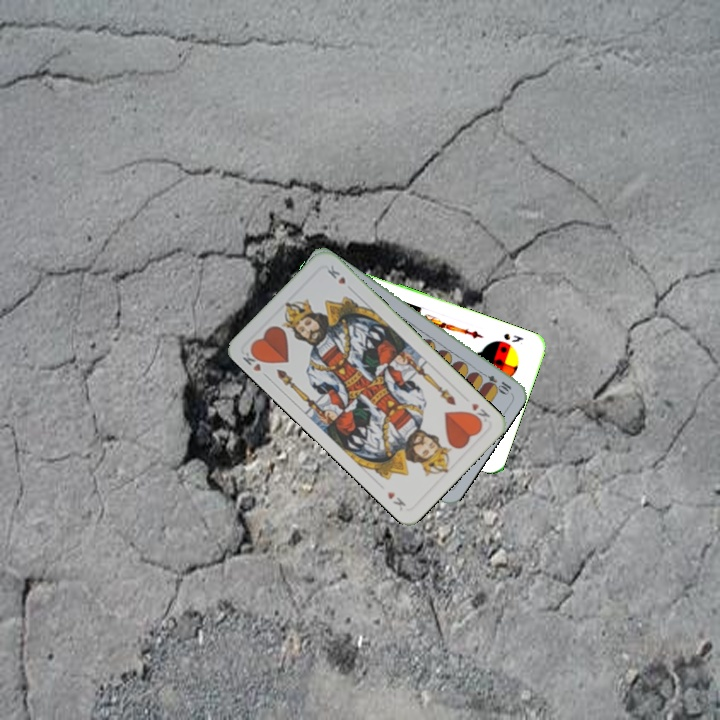E10: (476, 368, 514, 396)
HK: (238, 344, 271, 381), (465, 399, 493, 427)
SK: (500, 329, 526, 345)
